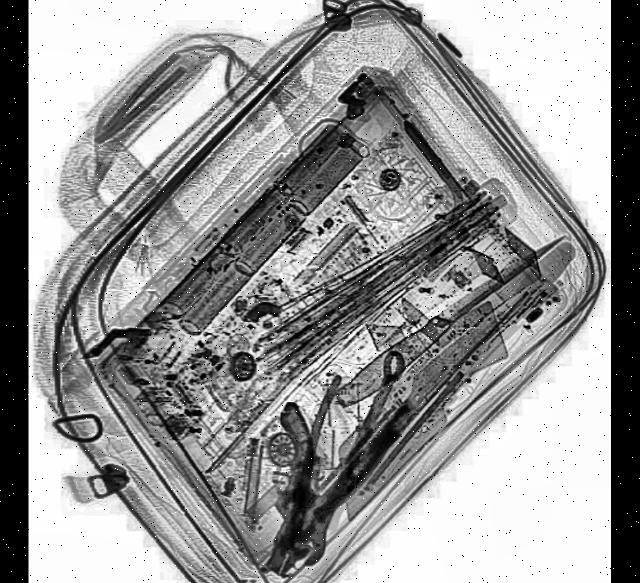Gun: (216, 397, 345, 576)
Knife: (298, 274, 535, 525), (332, 223, 572, 412)
Wrench: (282, 340, 415, 573)
